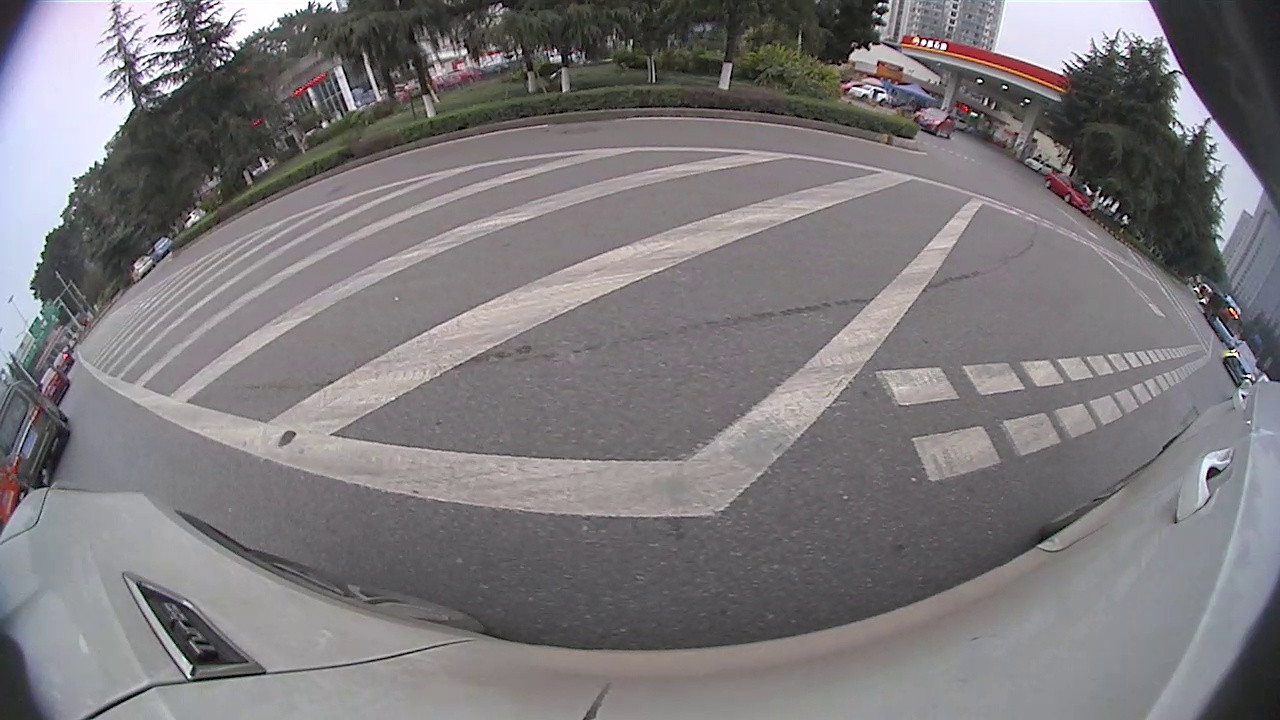car: (270, 3, 601, 201), (1026, 231, 1192, 404), (870, 119, 1013, 216), (87, 202, 179, 287), (2, 307, 71, 401), (206, 123, 288, 194), (1196, 381, 1242, 446)
front: (501, 123, 564, 181), (258, 152, 278, 177), (984, 195, 1004, 218), (114, 255, 130, 280)
rear: (317, 155, 355, 201), (918, 164, 942, 191), (214, 174, 232, 196)
